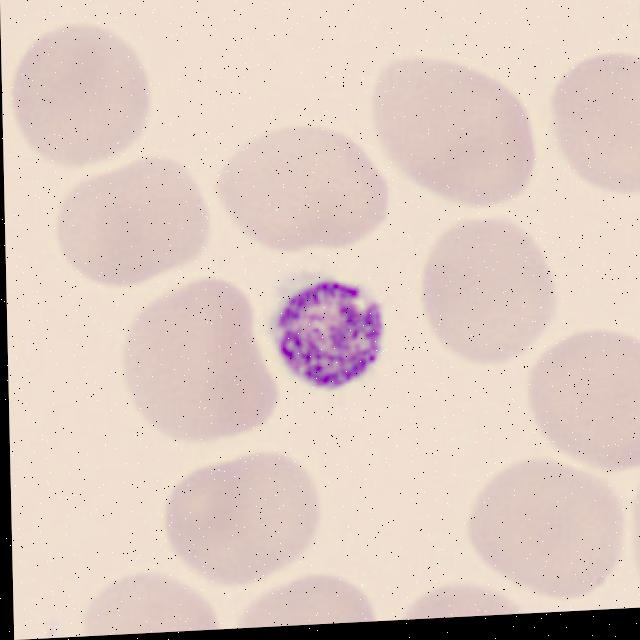platelets: (273, 265, 390, 393)
rbc: (367, 21, 541, 222), (214, 111, 399, 266), (116, 276, 269, 449), (3, 8, 166, 169), (459, 449, 625, 604), (154, 448, 332, 586), (60, 152, 227, 292), (420, 208, 562, 359), (527, 325, 640, 476), (550, 57, 640, 204), (78, 568, 226, 637), (237, 570, 377, 628), (393, 575, 531, 620), (625, 461, 640, 607)
